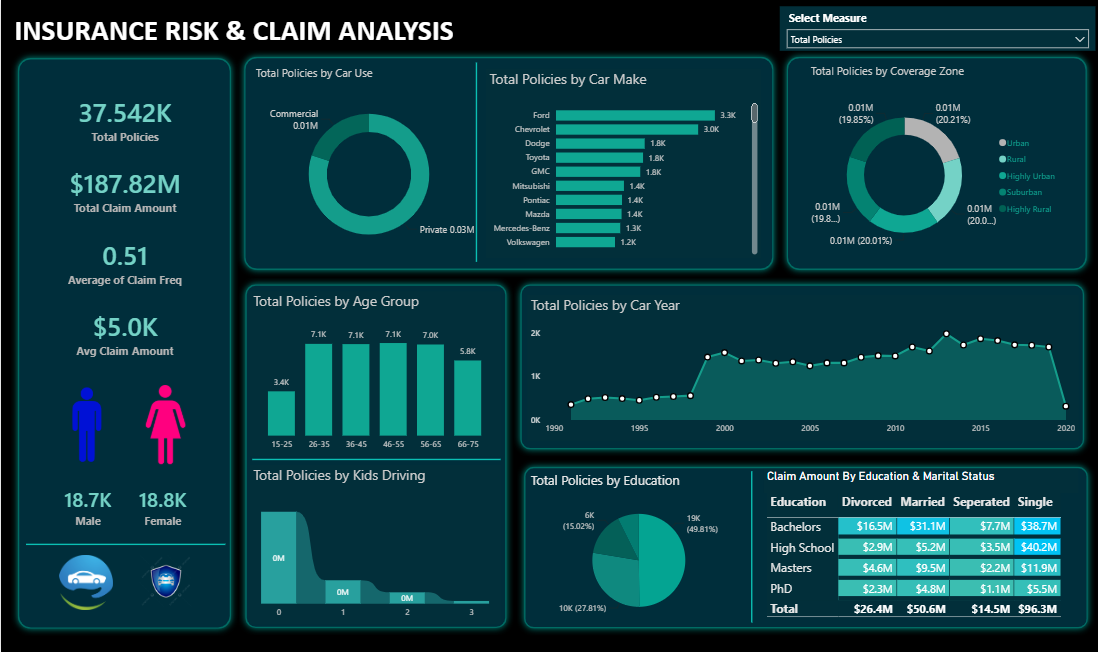

This screenshot's page, from the dashboard's own definition file:
{"tool":"powerbi","page":{"name":"Page 1","canvas":[1600,950],"ordinal":0},"visuals":[{"type":"textbox","box":[15.4,12,699.8,61.7],"z":0},{"type":"shape","box":[15.4,73.8,330,850],"z":1000},{"type":"cardVisual","fields":{"Data":["insurance_data_car.Total Policies","insurance_data_car.Total Claim Amount","Avg(insurance_data_car.Claim Freq)","insurance_data_car.Avg Claim Amount"]},"box":[45.8,100,270,460],"z":2000},{"type":"cardVisual","fields":{"Data":["insurance_data_car.Male Count","insurance_data_car.Female Count"]},"box":[50,681.5,260,110],"z":3000},{"type":"image","box":[66.7,559.3,115,115],"z":4000},{"type":"image","box":[181.5,559.3,115,115],"z":5000},{"type":"slicer","fields":{"Values":["Select Measure.Select Measure"]},"box":[1133.3,9.3,459.3,64.8],"z":6000},{"type":"shape","box":[343.8,72.9,790,330],"z":7000},{"type":"donutChart","fields":{"Y":["insurance_data_car.Total Policies"],"Category":["insurance_data_car.Car Use"]},"box":[365,95,340,285],"z":8000},{"type":"clusteredBarChart","fields":{"Y":["insurance_data_car.Total Policies"],"Category":["insurance_data_car.Car Make"]},"box":[705,100,400,275],"z":9000},{"type":"shape","box":[1133.3,73.3,456.7,330],"z":10000},{"type":"donutChart","fields":{"Y":["insurance_data_car.Total Policies"],"Category":["insurance_data_car.Coverage Zone"]},"box":[1173.3,91.7,375,295],"z":11000},{"type":"shape","box":[345,403.3,400,520],"z":12000},{"type":"clusteredColumnChart","fields":{"Y":["insurance_data_car.Total Policies"],"Category":["insurance_data_car.Age Group"]},"box":[361.7,423.3,365,240],"z":13000},{"type":"ribbonChart","fields":{"Y":["insurance_data_car.Total Policies"],"Category":["insurance_data_car.Kids Driving"]},"box":[361.7,676.7,365,231.7],"z":14000},{"type":"shape","box":[745,403.3,840,260],"z":15000},{"type":"lineChart","fields":{"Y":["insurance_data_car.Total Policies"],"Category":["insurance_data_car.Car Year"]},"box":[765,428.3,801.7,211.7],"z":16000},{"type":"shape","box":[750,668.3,840,255],"z":17000},{"type":"pieChart","fields":{"Y":["insurance_data_car.Total Policies"],"Category":["insurance_data_car.Education"]},"box":[765,685,325,223.3],"z":18000},{"type":"pivotTable","title":"Claim Amount By Education & Marital Status","fields":{"Rows":["insurance_data_car.Education"],"Columns":["insurance_data_car.Marital Status"],"Values":["insurance_data_car.Total Claim Amount"]},"box":[1108.5,681.4,458.3,223.3],"z":19000},{"type":"shape","box":[667.1,91.4,48.6,290],"z":20000},{"type":"shape","box":[365,653.8,361.2,27.5],"z":21000},{"type":"shape","box":[35.5,778.2,290,27.3],"z":22000},{"type":"image","box":[83.3,807.4,80,80],"z":23000},{"type":"image","box":[200,805.6,80,80],"z":24000},{"type":"shape","box":[1076.2,685,31.2,220],"z":25000}]}

Visuals, with their boxes in screenshot pixels (x1, y1, x2, y2), scaled from the page's 1600x950 canvas onto the 1098x652 screenshot:
textbox: (x1=11, y1=8, x2=491, y2=51)
shape: (x1=11, y1=51, x2=237, y2=634)
cardVisual - insurance_data_car.Total Policies x insurance_data_car.Total Claim Amount: (x1=31, y1=69, x2=217, y2=384)
cardVisual - insurance_data_car.Male Count x insurance_data_car.Female Count: (x1=34, y1=468, x2=213, y2=543)
image: (x1=46, y1=384, x2=125, y2=463)
image: (x1=125, y1=384, x2=203, y2=463)
slicer - Select Measure.Select Measure: (x1=778, y1=6, x2=1093, y2=51)
shape: (x1=236, y1=50, x2=778, y2=277)
donutChart - insurance_data_car.Total Policies x insurance_data_car.Car Use: (x1=250, y1=65, x2=484, y2=261)
clusteredBarChart - insurance_data_car.Total Policies x insurance_data_car.Car Make: (x1=484, y1=69, x2=758, y2=257)
shape: (x1=778, y1=50, x2=1091, y2=277)
donutChart - insurance_data_car.Total Policies x insurance_data_car.Coverage Zone: (x1=805, y1=63, x2=1063, y2=265)
shape: (x1=237, y1=277, x2=511, y2=634)
clusteredColumnChart - insurance_data_car.Total Policies x insurance_data_car.Age Group: (x1=248, y1=291, x2=499, y2=455)
ribbonChart - insurance_data_car.Total Policies x insurance_data_car.Kids Driving: (x1=248, y1=464, x2=499, y2=623)
shape: (x1=511, y1=277, x2=1088, y2=455)
lineChart - insurance_data_car.Total Policies x insurance_data_car.Car Year: (x1=525, y1=294, x2=1075, y2=439)
shape: (x1=515, y1=459, x2=1091, y2=634)
pieChart - insurance_data_car.Total Policies x insurance_data_car.Education: (x1=525, y1=470, x2=748, y2=623)
"Claim Amount By Education & Marital Status" pivotTable: (x1=761, y1=468, x2=1075, y2=621)
shape: (x1=458, y1=63, x2=491, y2=262)
shape: (x1=250, y1=449, x2=498, y2=468)
shape: (x1=24, y1=534, x2=223, y2=553)
image: (x1=57, y1=554, x2=112, y2=609)
image: (x1=137, y1=553, x2=192, y2=608)
shape: (x1=739, y1=470, x2=760, y2=621)
